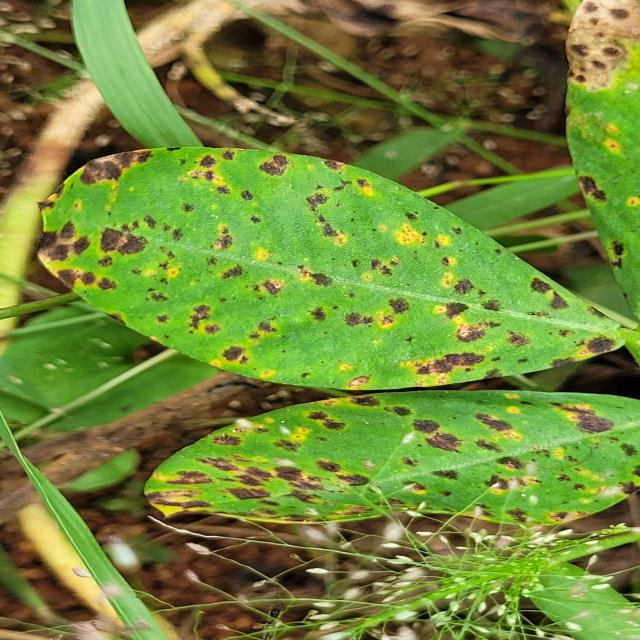Ground nut_tikka leaf spot: (29, 146, 640, 390), (124, 376, 640, 536)
